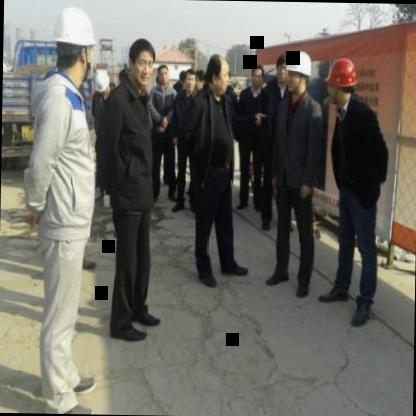head: (126, 37, 158, 88), (206, 49, 230, 100), (248, 62, 266, 94), (274, 50, 289, 88), (155, 59, 170, 89), (183, 65, 198, 92)
helmet: (52, 0, 98, 84), (324, 56, 360, 111), (282, 50, 311, 96), (91, 68, 114, 103)
